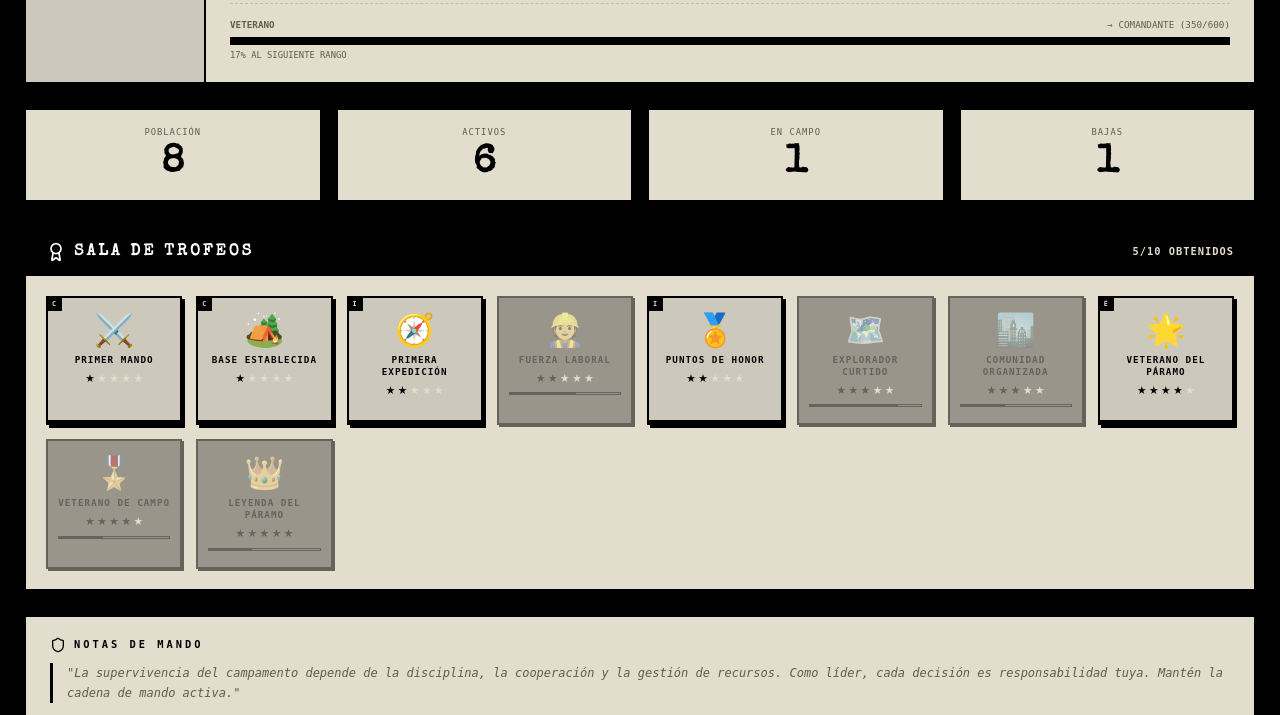
ProfileView Component › shows BLOQUEADO state and progress bar for a locked trophy
This screenshot has width=1280, height=715.
(page scrolled)
What coordinates should you click on to do the following:
click the button "👷 FUERZA LABORAL ★ ★ ★ ★ ★"
I would click on:
 (565, 360)
Its box is x1=497 y1=296 x2=633 y2=425.
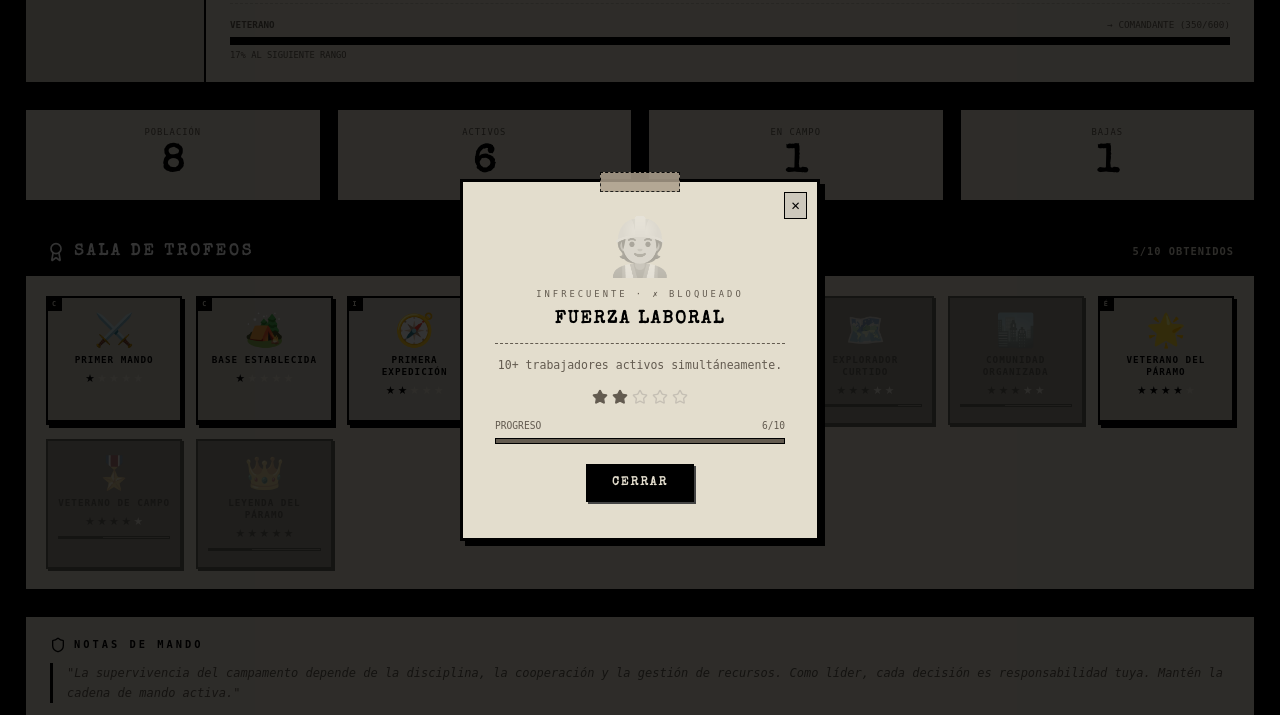
Now the text "INFRECUENTE · ✗ BLOQUEADO" is shown, box x1=536 y1=289 x2=744 y2=299
Now the text "PROGRESO" is shown, box x1=495 y1=419 x2=541 y2=433
Now the text "6/10" is shown, box x1=762 y1=419 x2=785 y2=433
